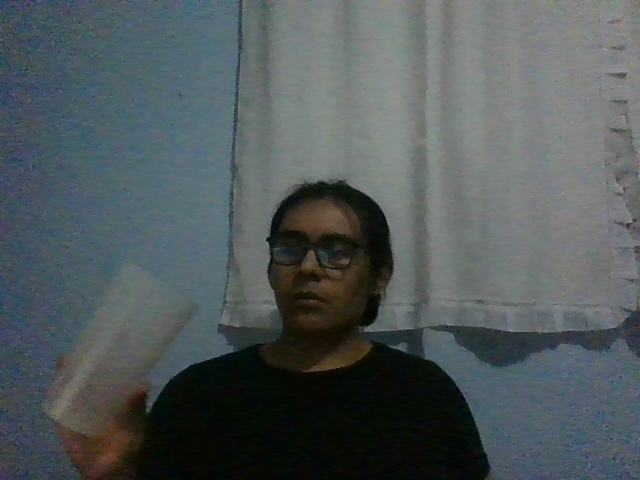vaso: (40, 260, 198, 439)
